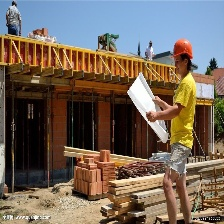helmet: (169, 39, 195, 69)
no-vest: (172, 73, 196, 149)
person: (162, 37, 196, 223)
